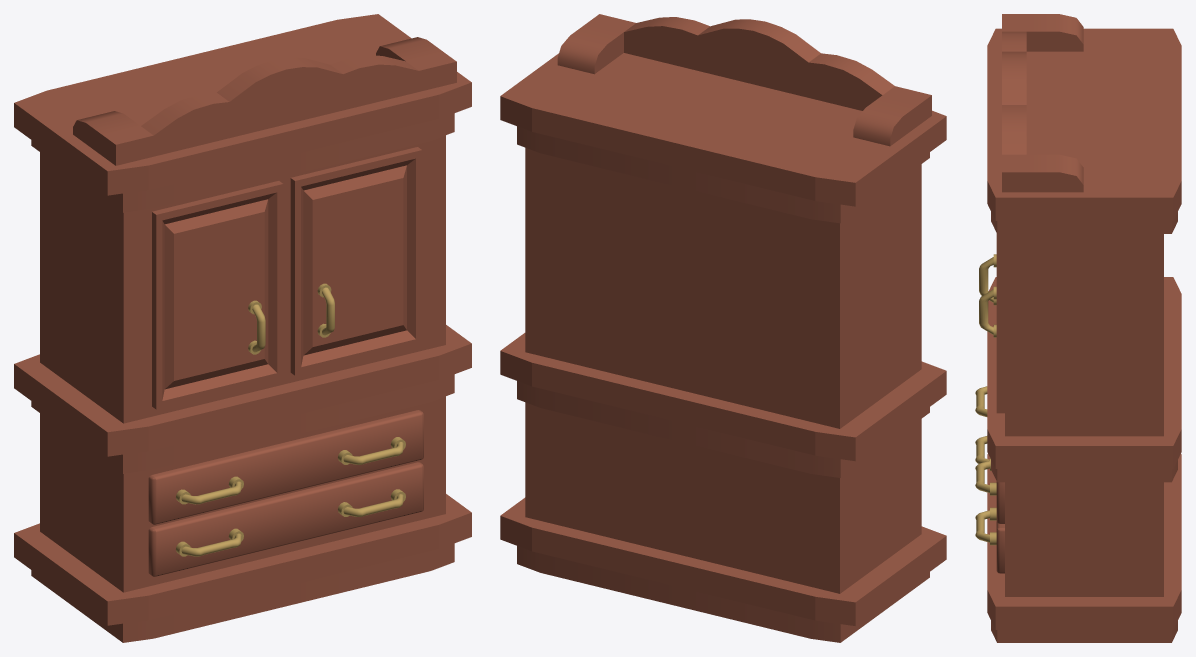
The model's file is cupboard.fbx.
The picture shows the model from 3 angles, left to right: view 1: azimuth 30°, elevation 25°; view 2: azimuth 150°, elevation 25°; view 3: azimuth 270°, elevation 25°; orthographic projection. The views are drawn at different scales.
Parts seen in each view (by area): view 1: cupboard; view 2: cupboard; view 3: cupboard.
Part boxes in pixels (<box>): cupboard: <box>14,14,471,642</box>; cupboard: <box>500,14,946,642</box>; cupboard: <box>975,14,1181,642</box>.
Bounding box in the file's own units: 2.08 × 2.9 × 1.07.
